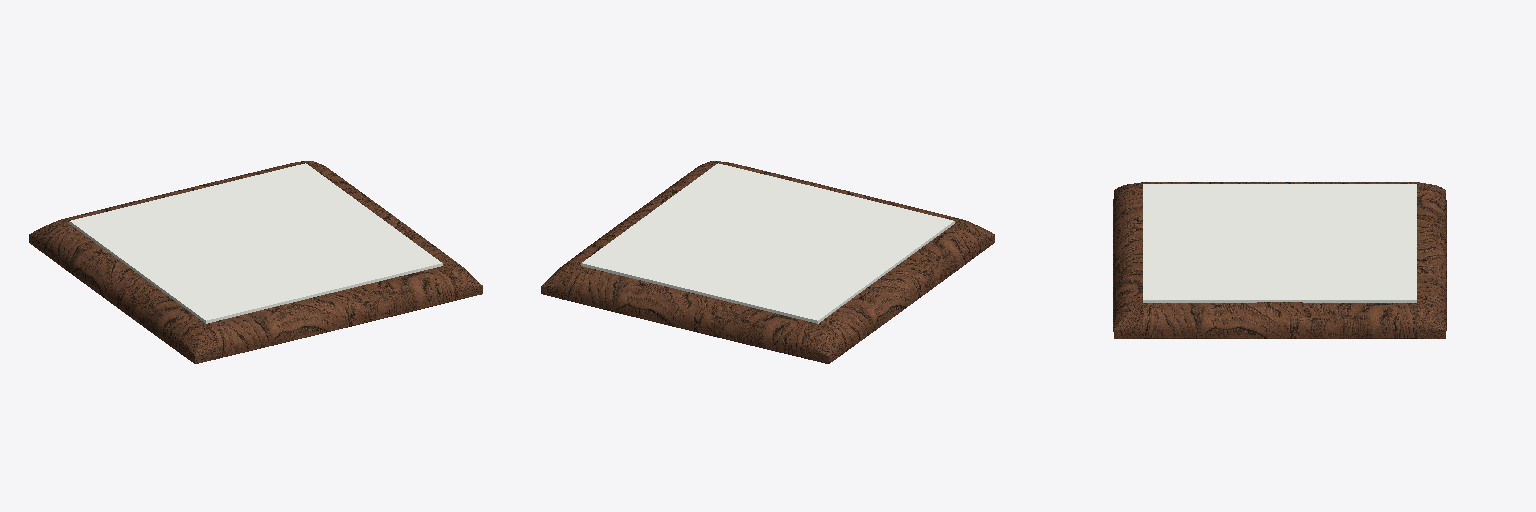
3 views of the same model, side by side, from view 1: azimuth 30°, elevation 25°; view 2: azimuth 150°, elevation 25°; view 3: azimuth 270°, elevation 25° (orthographic).
Visible parts, largest first — view 1: s.0073, p.0109, s.0112; view 2: s.0073, p.0109, s.0112; view 3: s.0073, p.0109, s.0112.
Part boxes in pixels (x1,y1,x2,y2): s.0073: (69,163,442,323); p.0109: (43,162,459,357); s.0112: (29,161,482,363); s.0073: (581,163,954,323); p.0109: (563,162,980,357); s.0112: (541,161,994,363); s.0073: (1143,184,1416,302); p.0109: (1113,182,1446,338); s.0112: (1113,182,1446,338).
Bounding box in the file's own units: 0.9519 × 0.088 × 0.9519.
2 materials, 1 textured.